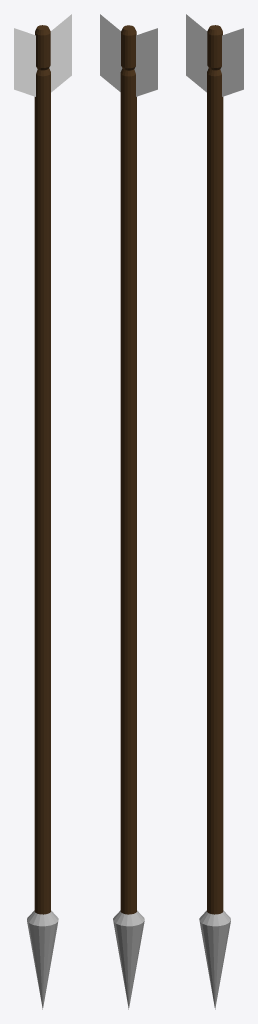
The model's file is Anak Panah.fbx.
3 renders of one model, left to right at view 1: azimuth 30°, elevation 25°; view 2: azimuth 150°, elevation 25°; view 3: azimuth 330°, elevation 25°, orthographic.
Visible parts, largest first — view 1: anak panah; view 2: anak panah; view 3: anak panah.
Part boxes in pixels (left/top/right/bottom): anak panah: left=14, top=14, right=71, bottom=1009; anak panah: left=100, top=14, right=157, bottom=1009; anak panah: left=186, top=14, right=243, bottom=1009.
Size of the model in its own units: 4.53 by 74.06 by 2.18.
